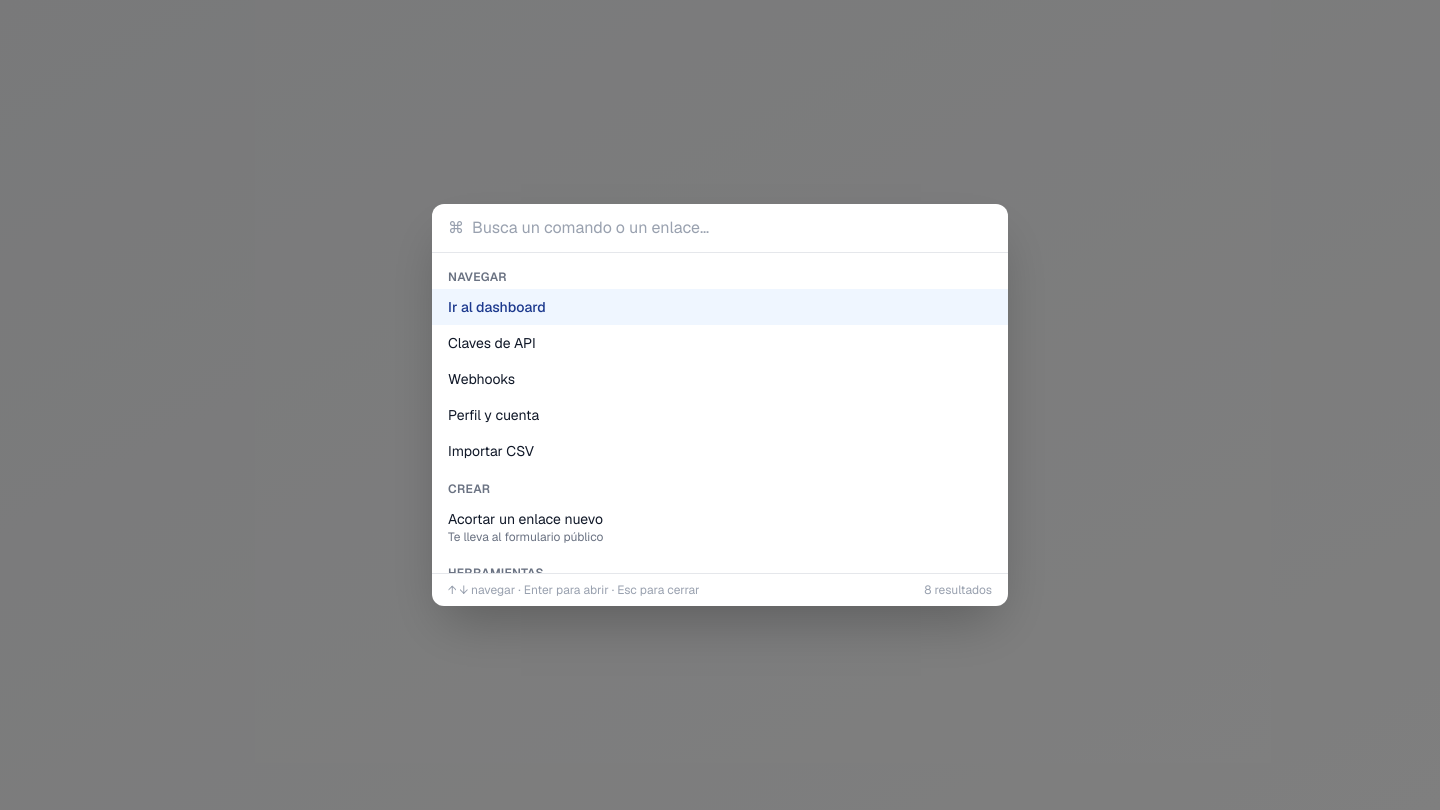
Test: CommandPalette › filtra acciones según el query
Type "webhook" into the field named "Buscar comandos" at (732,228), box [472, 216, 992, 240]
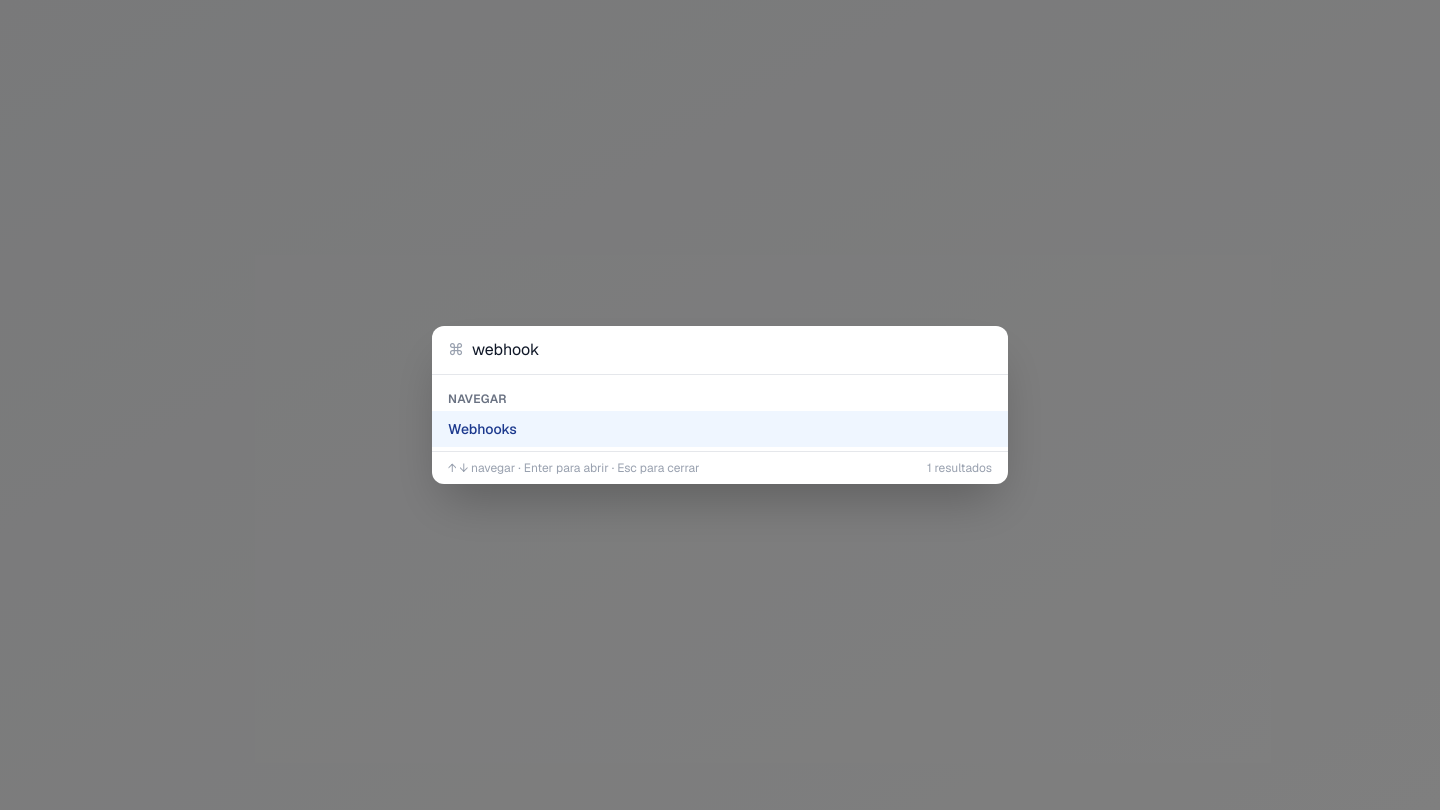
expect the text "Webhooks" is shown: met, box [448, 420, 517, 438]
expect the option "Claves de API" is gone: met
